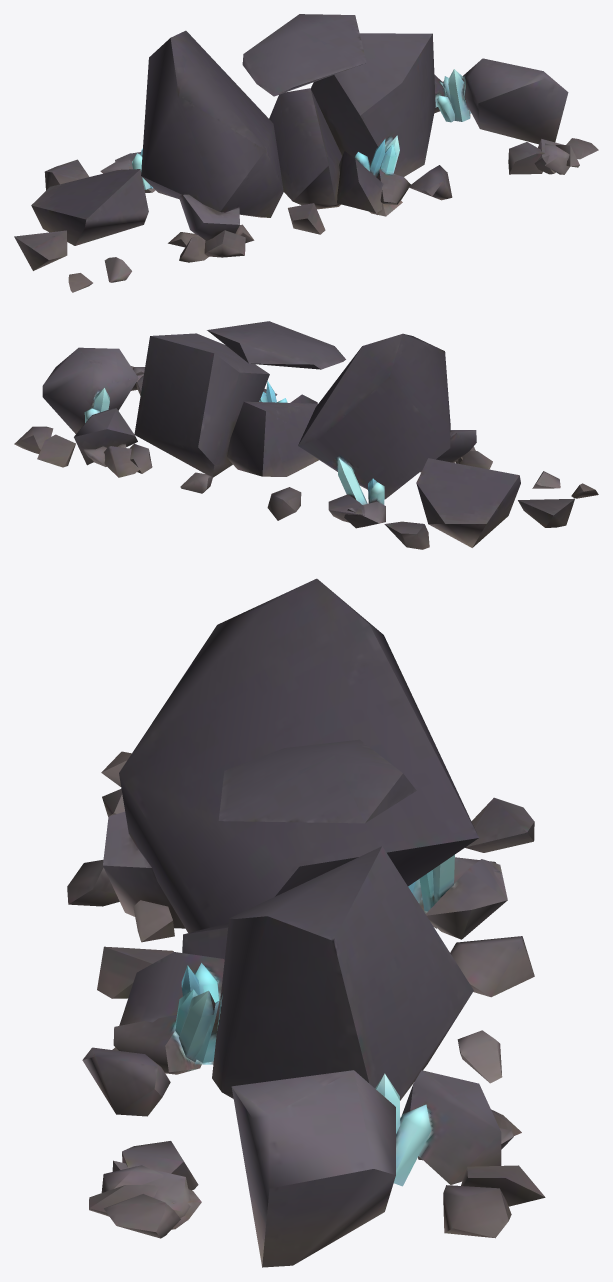
The model's file is ridge-cave.glb.
3 views of the same model, one above another, from view 1: azimuth 30°, elevation 25°; view 2: azimuth 150°, elevation 25°; view 3: azimuth 270°, elevation 25° (orthographic). The views are drawn at different scales.
Parts seen in each view (by area): view 1: ridge-cave; view 2: ridge-cave; view 3: ridge-cave.
Boxes of the visible parts, x1,y1,x2,y2 form: ridge-cave: [14, 14, 598, 292]; ridge-cave: [14, 321, 598, 549]; ridge-cave: [67, 578, 545, 1267].
Size of the model in its own units: 2.99 by 0.9925 by 1.22.
1 material, 1 textured.
